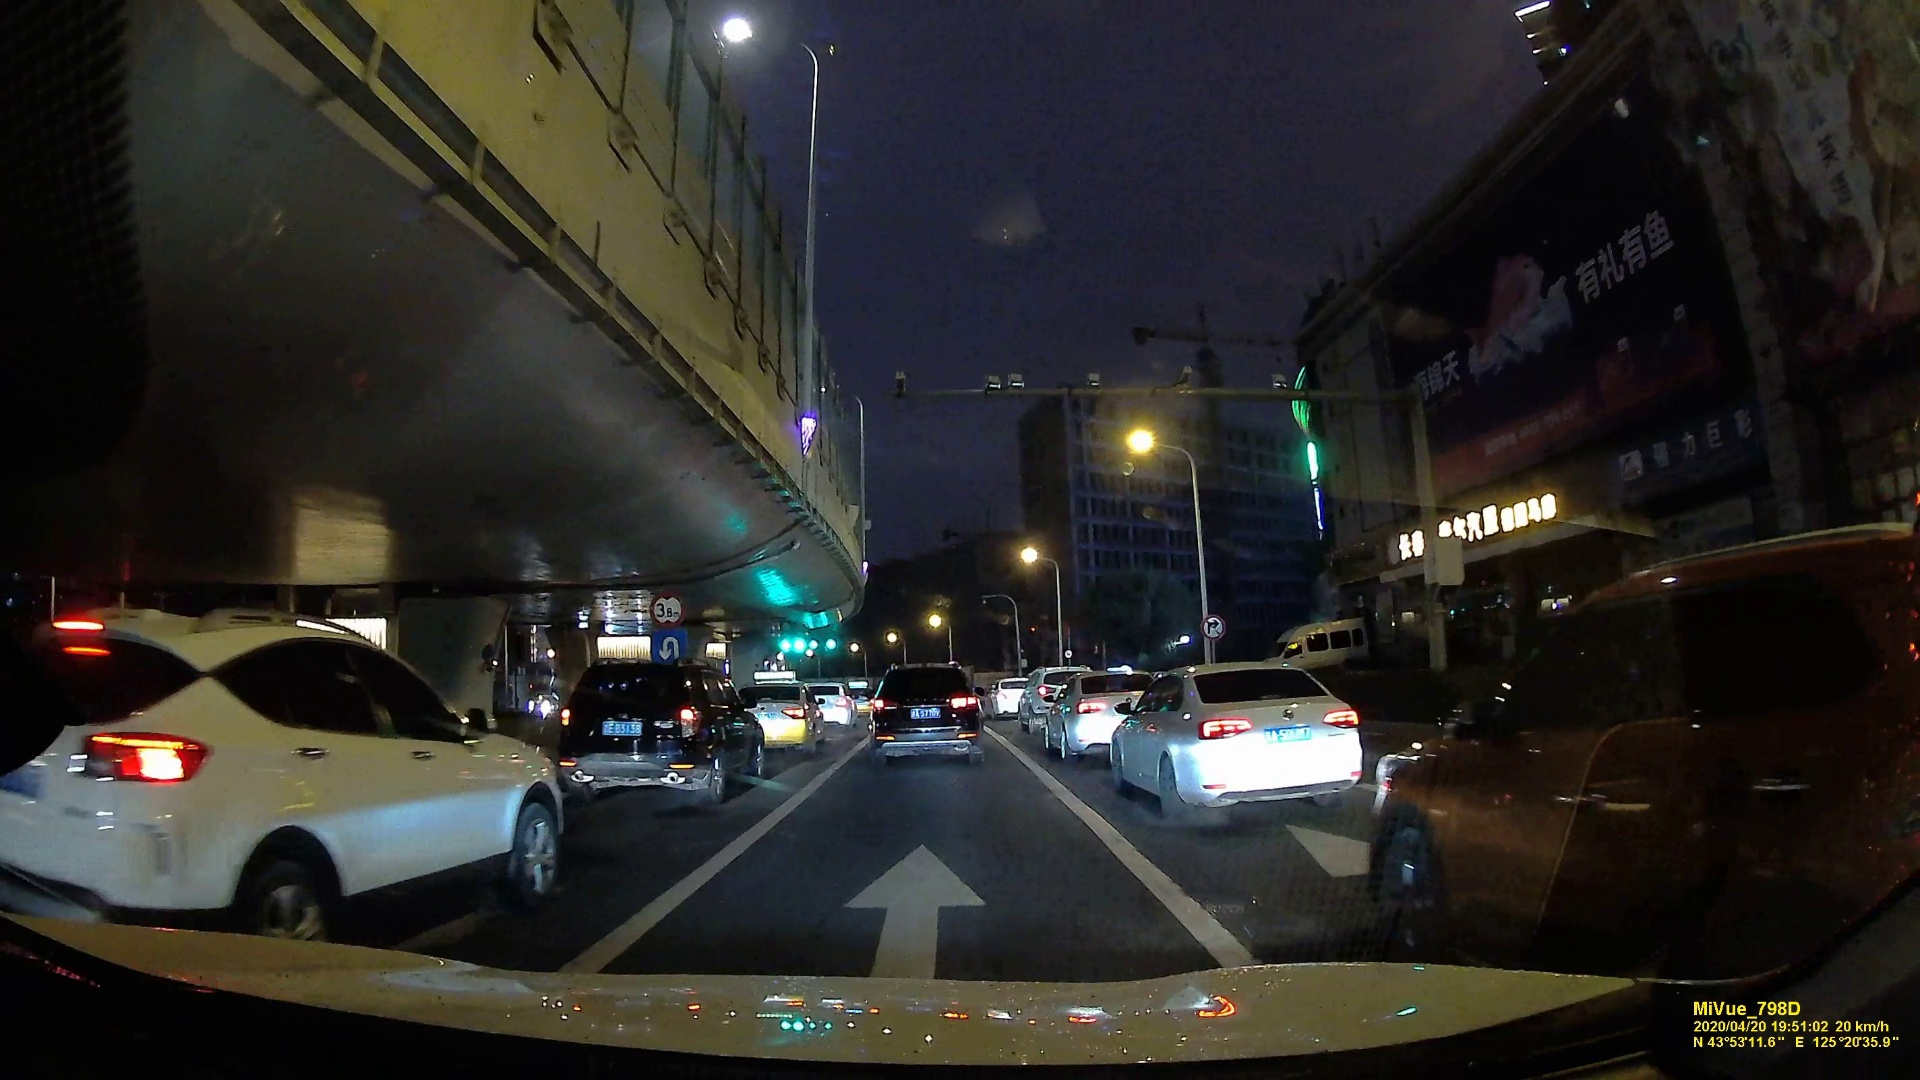minibus: (1265, 618, 1366, 670)
traffic_sign: (649, 629, 687, 659), (647, 593, 682, 626), (1199, 616, 1221, 638), (793, 622, 804, 651), (779, 624, 791, 650), (825, 629, 836, 650), (808, 630, 818, 649)
vehicle: (1367, 531, 1917, 963), (4, 615, 563, 936), (1112, 662, 1369, 822), (560, 658, 764, 802), (866, 659, 986, 766), (1046, 670, 1149, 756), (740, 680, 822, 746)
